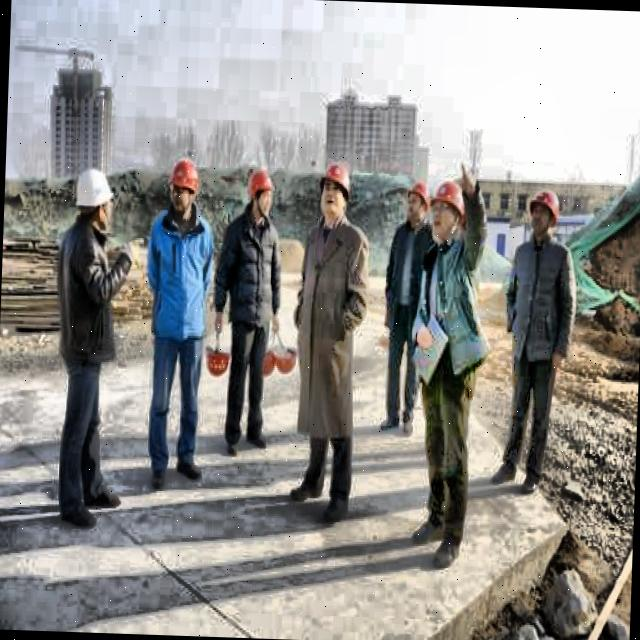helmet: (69, 162, 117, 237), (314, 158, 355, 228), (432, 171, 468, 245), (167, 154, 203, 224), (526, 182, 564, 245), (242, 164, 276, 223), (398, 172, 430, 230)
